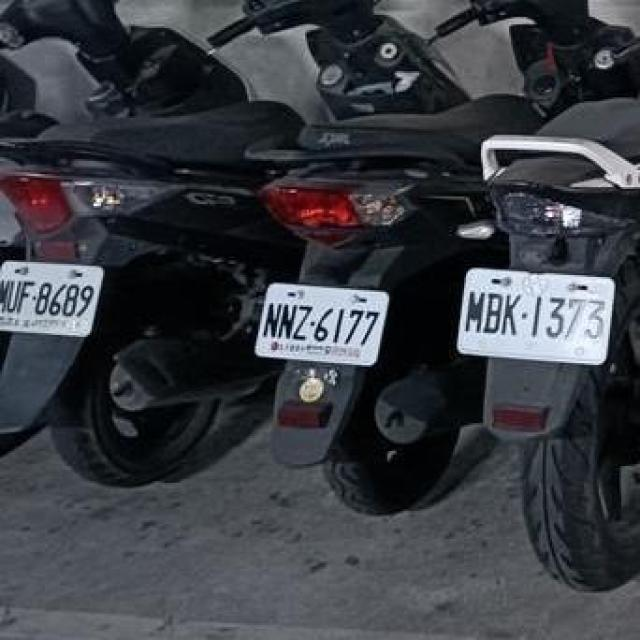W: (449, 260, 621, 371), (253, 272, 393, 374), (0, 251, 107, 342)
